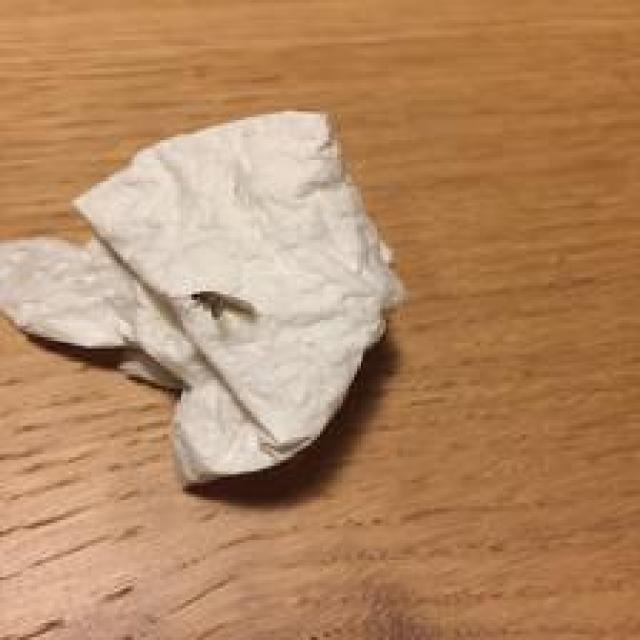Culex: (0, 107, 406, 490)
